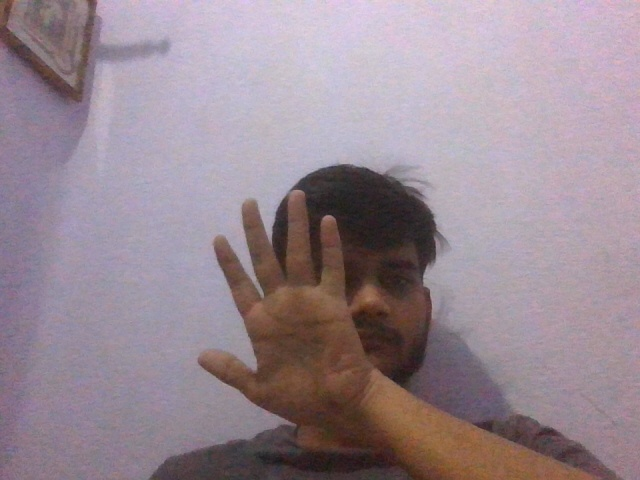hello: (170, 183, 385, 430)
